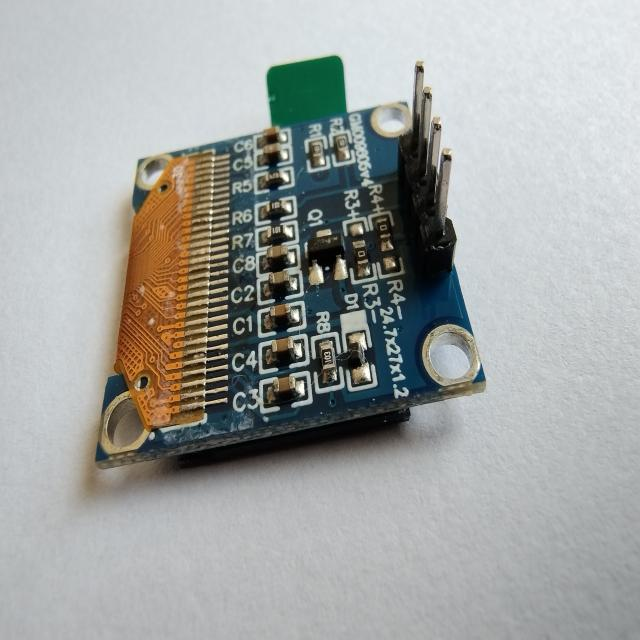oled: (104, 77, 502, 486)
